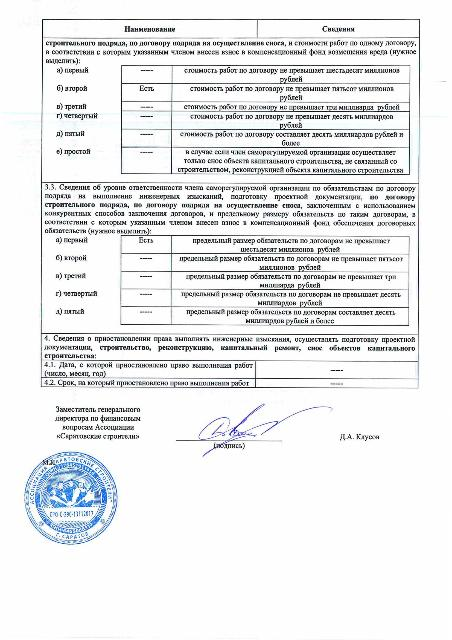stamp: (22, 448, 115, 546)
